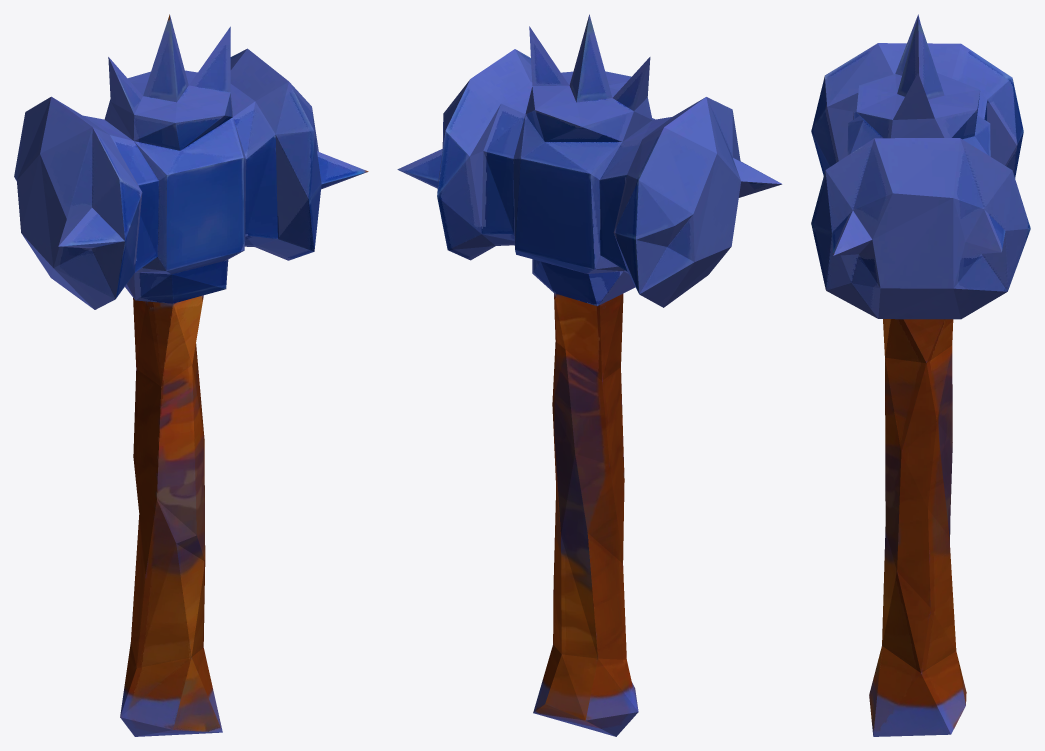
Rendered from crystal_mace_1.glb.
3 views of the same model, side by side, from view 1: azimuth 30°, elevation 25°; view 2: azimuth 150°, elevation 25°; view 3: azimuth 270°, elevation 25° (orthographic).
Parts seen in each view (by area): view 1: TexturedMesh_.obj; view 2: TexturedMesh_.obj; view 3: TexturedMesh_.obj.
Part boxes in pixels (bbox=[...]): TexturedMesh_.obj: bbox=[14, 14, 368, 736]; TexturedMesh_.obj: bbox=[397, 14, 782, 736]; TexturedMesh_.obj: bbox=[811, 14, 1030, 736].
Size of the model in its own units: 0.9027 by 2 by 0.5578.
1 material, 1 textured.
